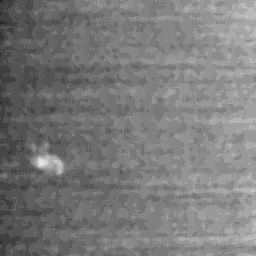con: (23, 141, 70, 186)
